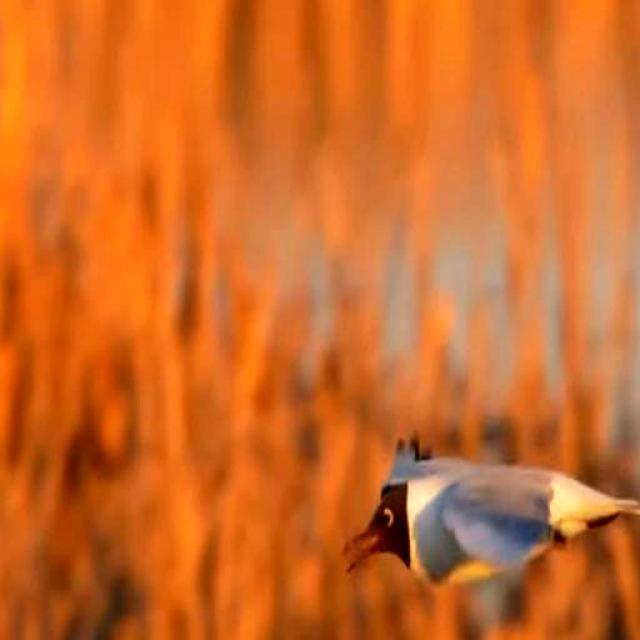airplane: (344, 410, 640, 602)
